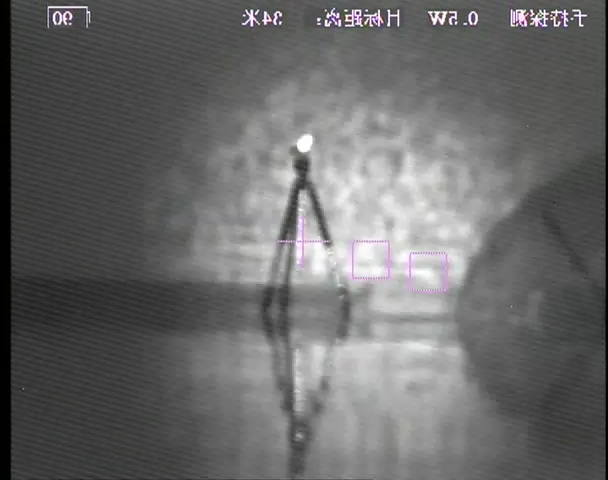my: (293, 131, 316, 154)
